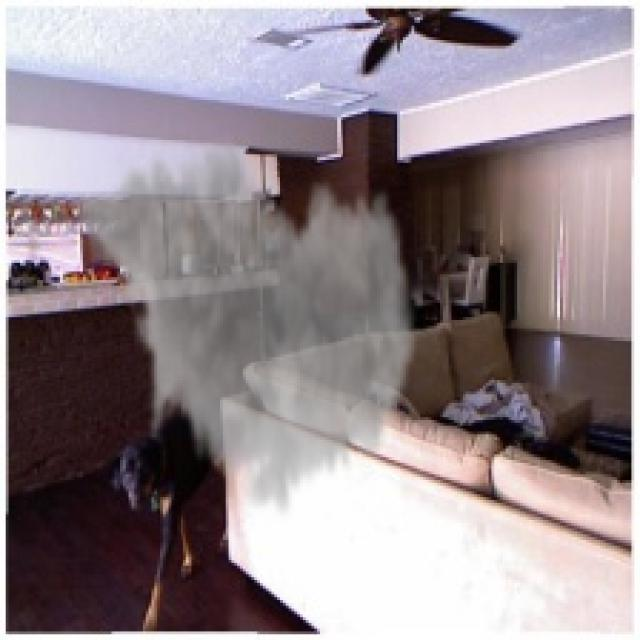smoke: (71, 125, 420, 526)
